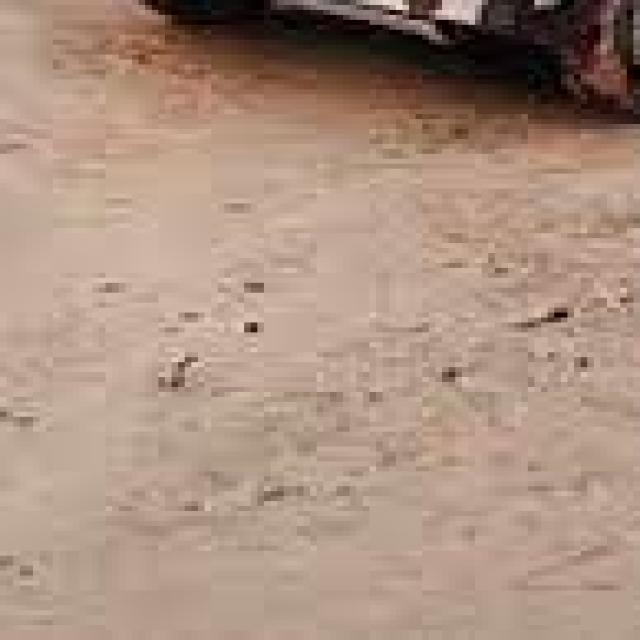car: (72, 0, 640, 124)
